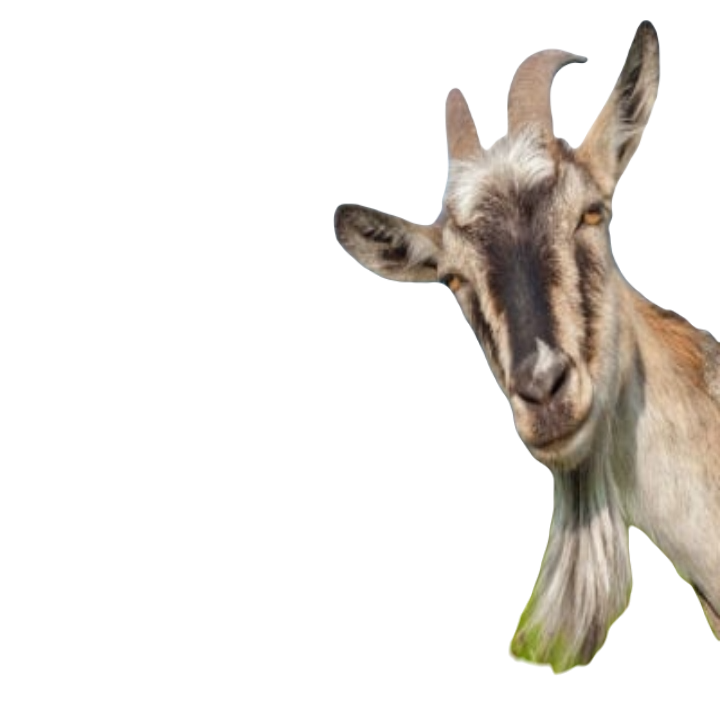Goat: (328, 18, 719, 671)
